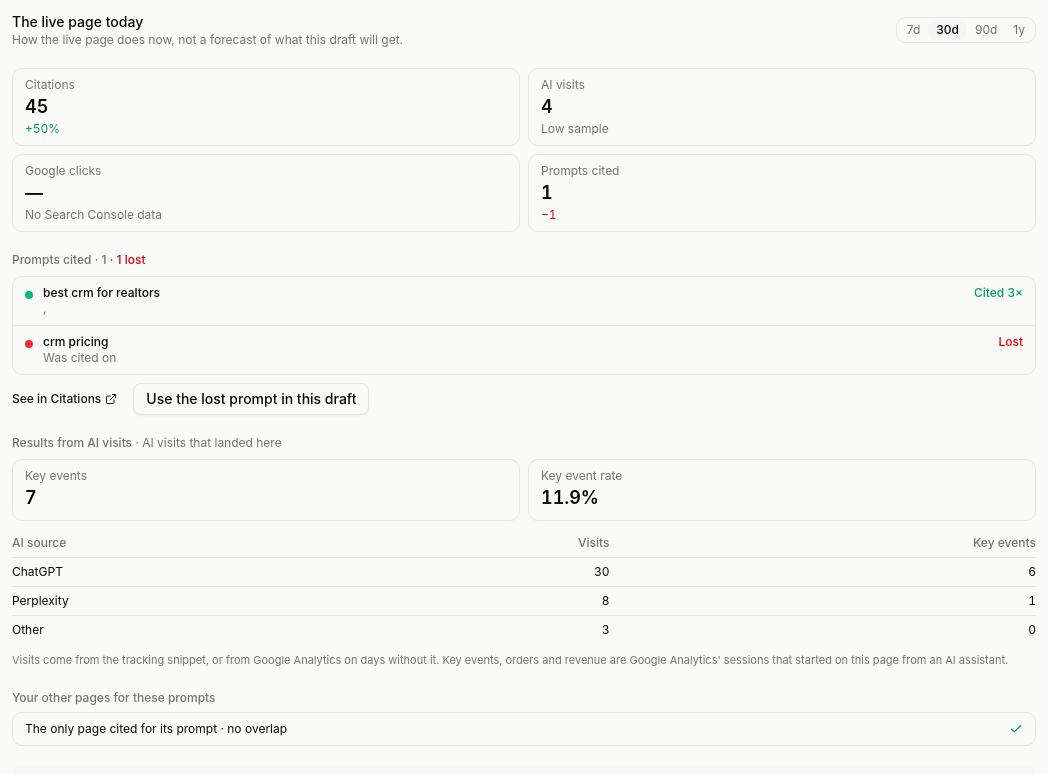
Test: the Live page tab › says when Search Console has no data, or doesn’t reach back far enough
The width and height of the screenshot is (1048, 774).
What coordinates should you click on to do the following:
click the button "1y"
I would click on:
 (1019, 30)
Its box is [1005,20,1033,40].
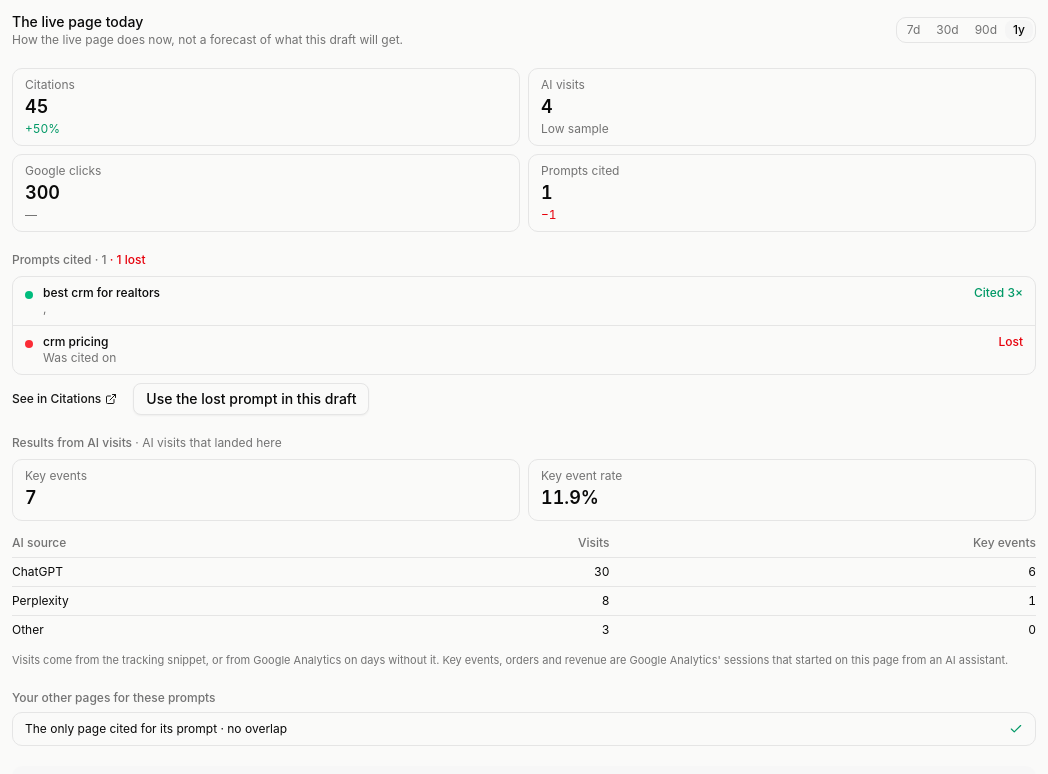
Expected: the element showing "Google clicks 300 —" is shown, [12,154,520,232]
